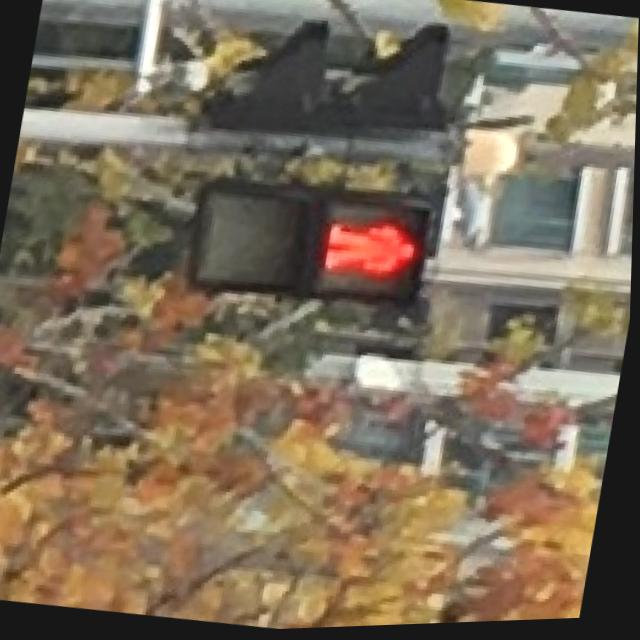red_light: (318, 195, 438, 310)
